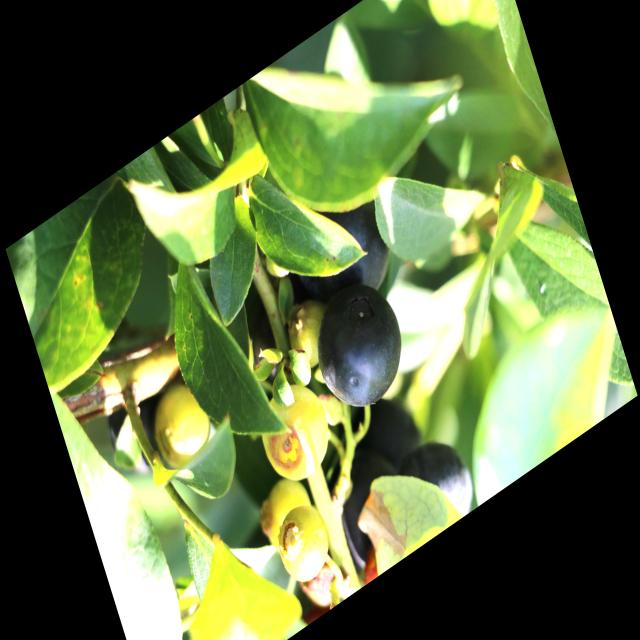blueberry: (281, 164, 411, 344), (302, 260, 419, 433), (378, 418, 482, 558), (326, 436, 418, 578), (93, 368, 181, 504), (342, 375, 428, 492)
blueberry-unripe: (253, 368, 342, 498), (147, 373, 219, 483), (270, 496, 339, 596)
